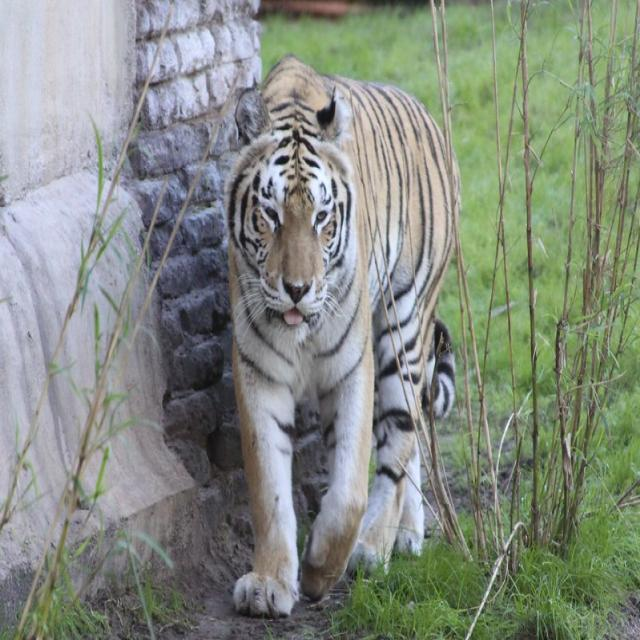Tiger: (210, 38, 469, 636)
